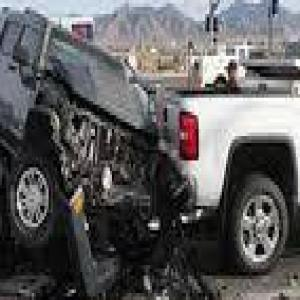severe: (0, 7, 300, 296)
